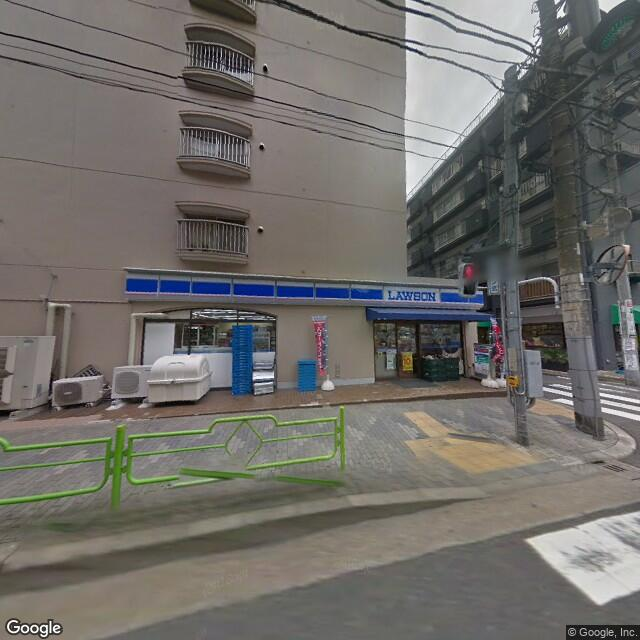lawson: (123, 264, 492, 311)
